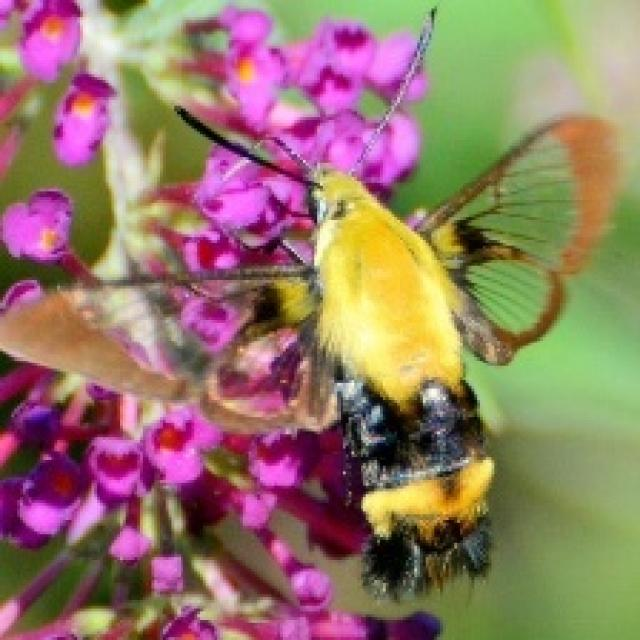butterfly: (146, 3, 623, 603)
